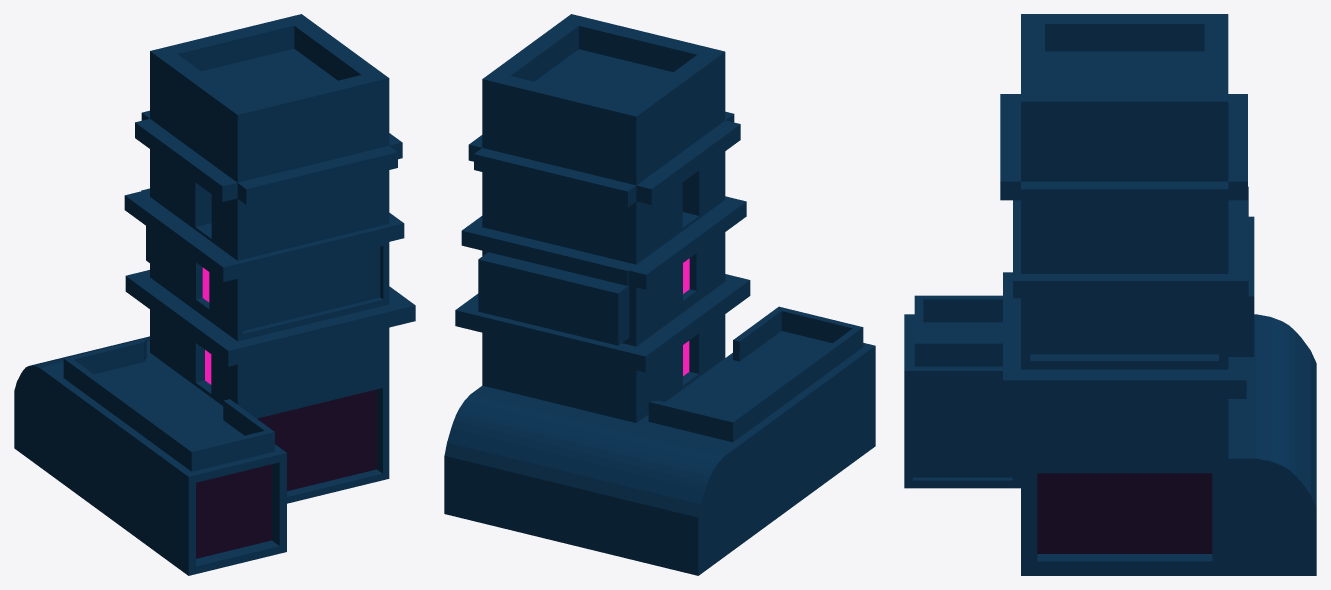
File: building1.glb
3 renders of one model, left to right at view 1: azimuth 30°, elevation 25°; view 2: azimuth 150°, elevation 25°; view 3: azimuth 270°, elevation 25°, orthographic. The views are drawn at different scales.
Visible parts, largest first — view 1: Cube; view 2: Cube; view 3: Cube.
Part boxes in pixels (<box>): Cube: <box>14,14,415,575</box>; Cube: <box>444,14,875,575</box>; Cube: <box>904,14,1316,575</box>.
Bounding box in the file's own units: 16.69 × 23.78 × 18.74.
